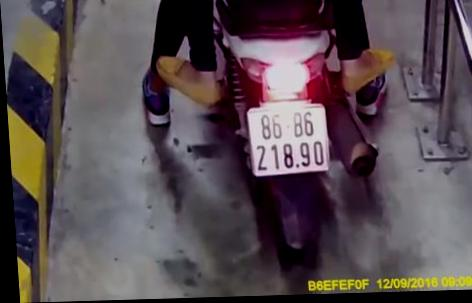License_Plate: (239, 101, 339, 180)
